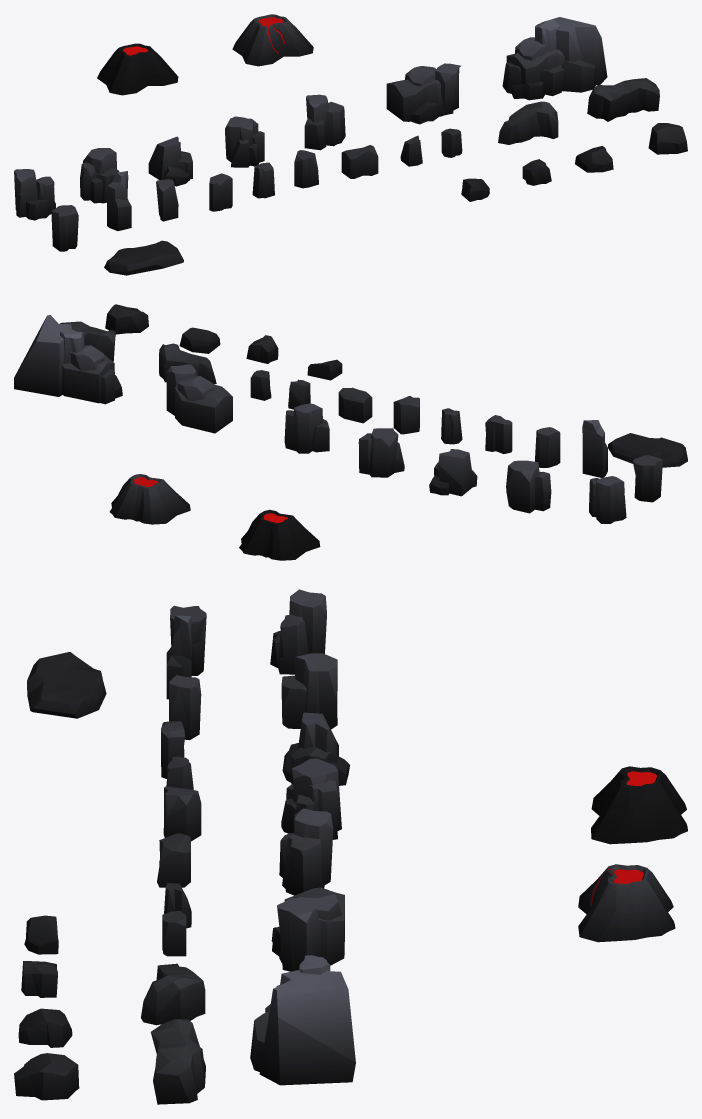
File: Piedras.fbx
3 renders of one model, top to bottom at view 1: azimuth 30°, elevation 25°; view 2: azimuth 150°, elevation 25°; view 3: azimuth 270°, elevation 25°, orthographic. The views are drawn at different scales.
Visible parts, largest first — view 1: Cliff_07, Cliff_06, Volcano2, Volcano1, Cliff_Rock_11, Cliff_05, Cliff_Rock_10, Rock_Floor_01, Cliff_01, Cliff_04, Cliff_02, Cliff_03 (+13 smaller); view 2: Cliff_07, Cliff_06, Volcano2, Volcano1, Cliff_02, Cliff_05, Cliff_04, Rock_Floor_01, Cliff_03, Cliff_01, Cliff_Rock_02, Cliff_Rock_01 (+13 smaller); view 3: Cliff_07, Volcano2, Volcano1, Cliff_06, Rock_Floor_01, Cliff_Rock_11, Cliff_05, Cliff_02, Cliff_01, Cliff_Rock_10, Cliff_04, Rock_04 (+11 smaller).
Boxes of the visible parts, x1=… form: Cliff_07: x1=502, y1=17, x2=607, y2=100; Cliff_06: x1=386, y1=63, x2=461, y2=124; Volcano2: x1=232, y1=14, x2=313, y2=66; Volcano1: x1=97, y1=43, x2=178, y2=95; Cliff_Rock_11: x1=587, y1=78, x2=659, y2=121; Cliff_05: x1=304, y1=94, x2=345, y2=150; Cliff_Rock_10: x1=498, y1=101, x2=558, y2=144; Rock_Floor_01: x1=104, y1=240, x2=183, y2=275; Cliff_01: x1=14, y1=169, x2=55, y2=220; Cliff_04: x1=225, y1=116, x2=264, y2=167; Cliff_02: x1=80, y1=148, x2=119, y2=203; Cliff_03: x1=148, y1=136, x2=192, y2=186; Cliff_07: x1=14, y1=315, x2=122, y2=404; Cliff_06: x1=166, y1=364, x2=232, y2=433; Volcano2: x1=109, y1=474, x2=190, y2=524; Volcano1: x1=239, y1=509, x2=320, y2=560; Cliff_02: x1=506, y1=460, x2=551, y2=513; Cliff_05: x1=284, y1=403, x2=329, y2=453; Cliff_04: x1=358, y1=428, x2=404, y2=477; Rock_Floor_01: x1=608, y1=433, x2=687, y2=467; Cliff_03: x1=429, y1=449, x2=477, y2=496; Cliff_01: x1=589, y1=476, x2=626, y2=523; Cliff_Rock_02: x1=582, y1=420, x2=607, y2=477; Cliff_Rock_01: x1=632, y1=455, x2=662, y2=502; Cliff_07: x1=250, y1=955, x2=355, y2=1085; Volcano2: x1=578, y1=864, x2=675, y2=942; Volcano1: x1=591, y1=766, x2=687, y2=844; Cliff_06: x1=271, y1=887, x2=344, y2=971; Rock_Floor_01: x1=27, y1=652, x2=106, y2=718; Cliff_Rock_11: x1=150, y1=1019, x2=205, y2=1104; Cliff_05: x1=279, y1=808, x2=333, y2=895; Cliff_02: x1=281, y1=653, x2=337, y2=729; Cliff_01: x1=270, y1=589, x2=326, y2=674; Cliff_Rock_10: x1=141, y1=963, x2=205, y2=1025; Cliff_04: x1=281, y1=758, x2=341, y2=839; Rock_04: x1=14, y1=1053, x2=79, y2=1100.
Bounding box in the file's own units: 9045 × 979 × 5728.
